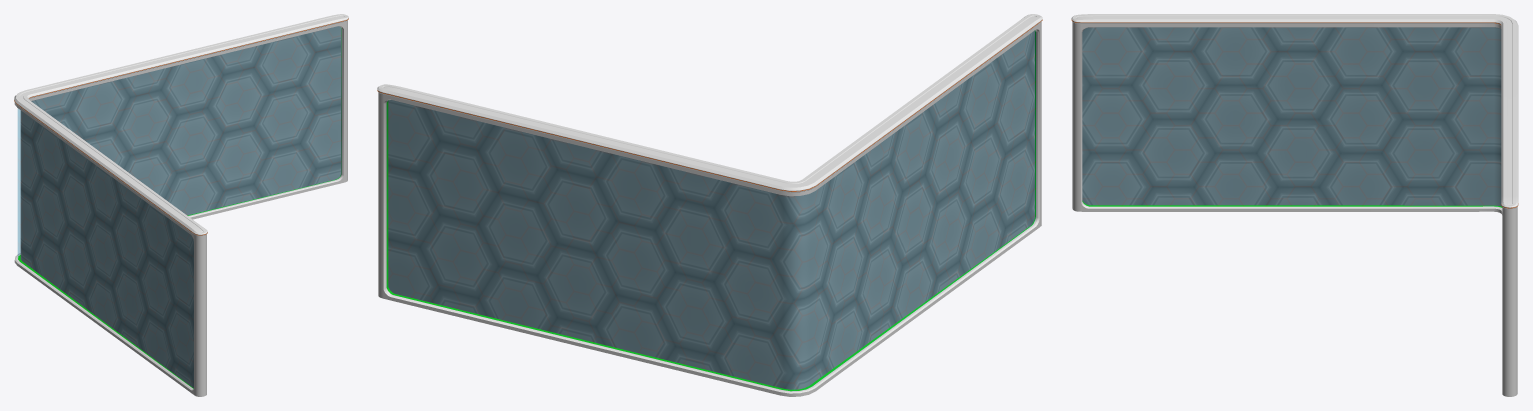
File: sm_wall_L_screen_fixed2.fbx
3 renders of one model, left to right at view 1: azimuth 30°, elevation 25°; view 2: azimuth 150°, elevation 25°; view 3: azimuth 270°, elevation 25°, orthographic. The views are drawn at different scales.
Visible parts, largest first — view 1: Lwallscreen_low; view 2: Lwallscreen_low; view 3: Lwallscreen_low.
Boxes of the visible parts, <box> form: Lwallscreen_low: <box>14,14,348,396</box>; Lwallscreen_low: <box>377,14,1042,396</box>; Lwallscreen_low: <box>1071,14,1518,396</box>.
Size of the model in its own units: 1602 by 744 by 1572.
